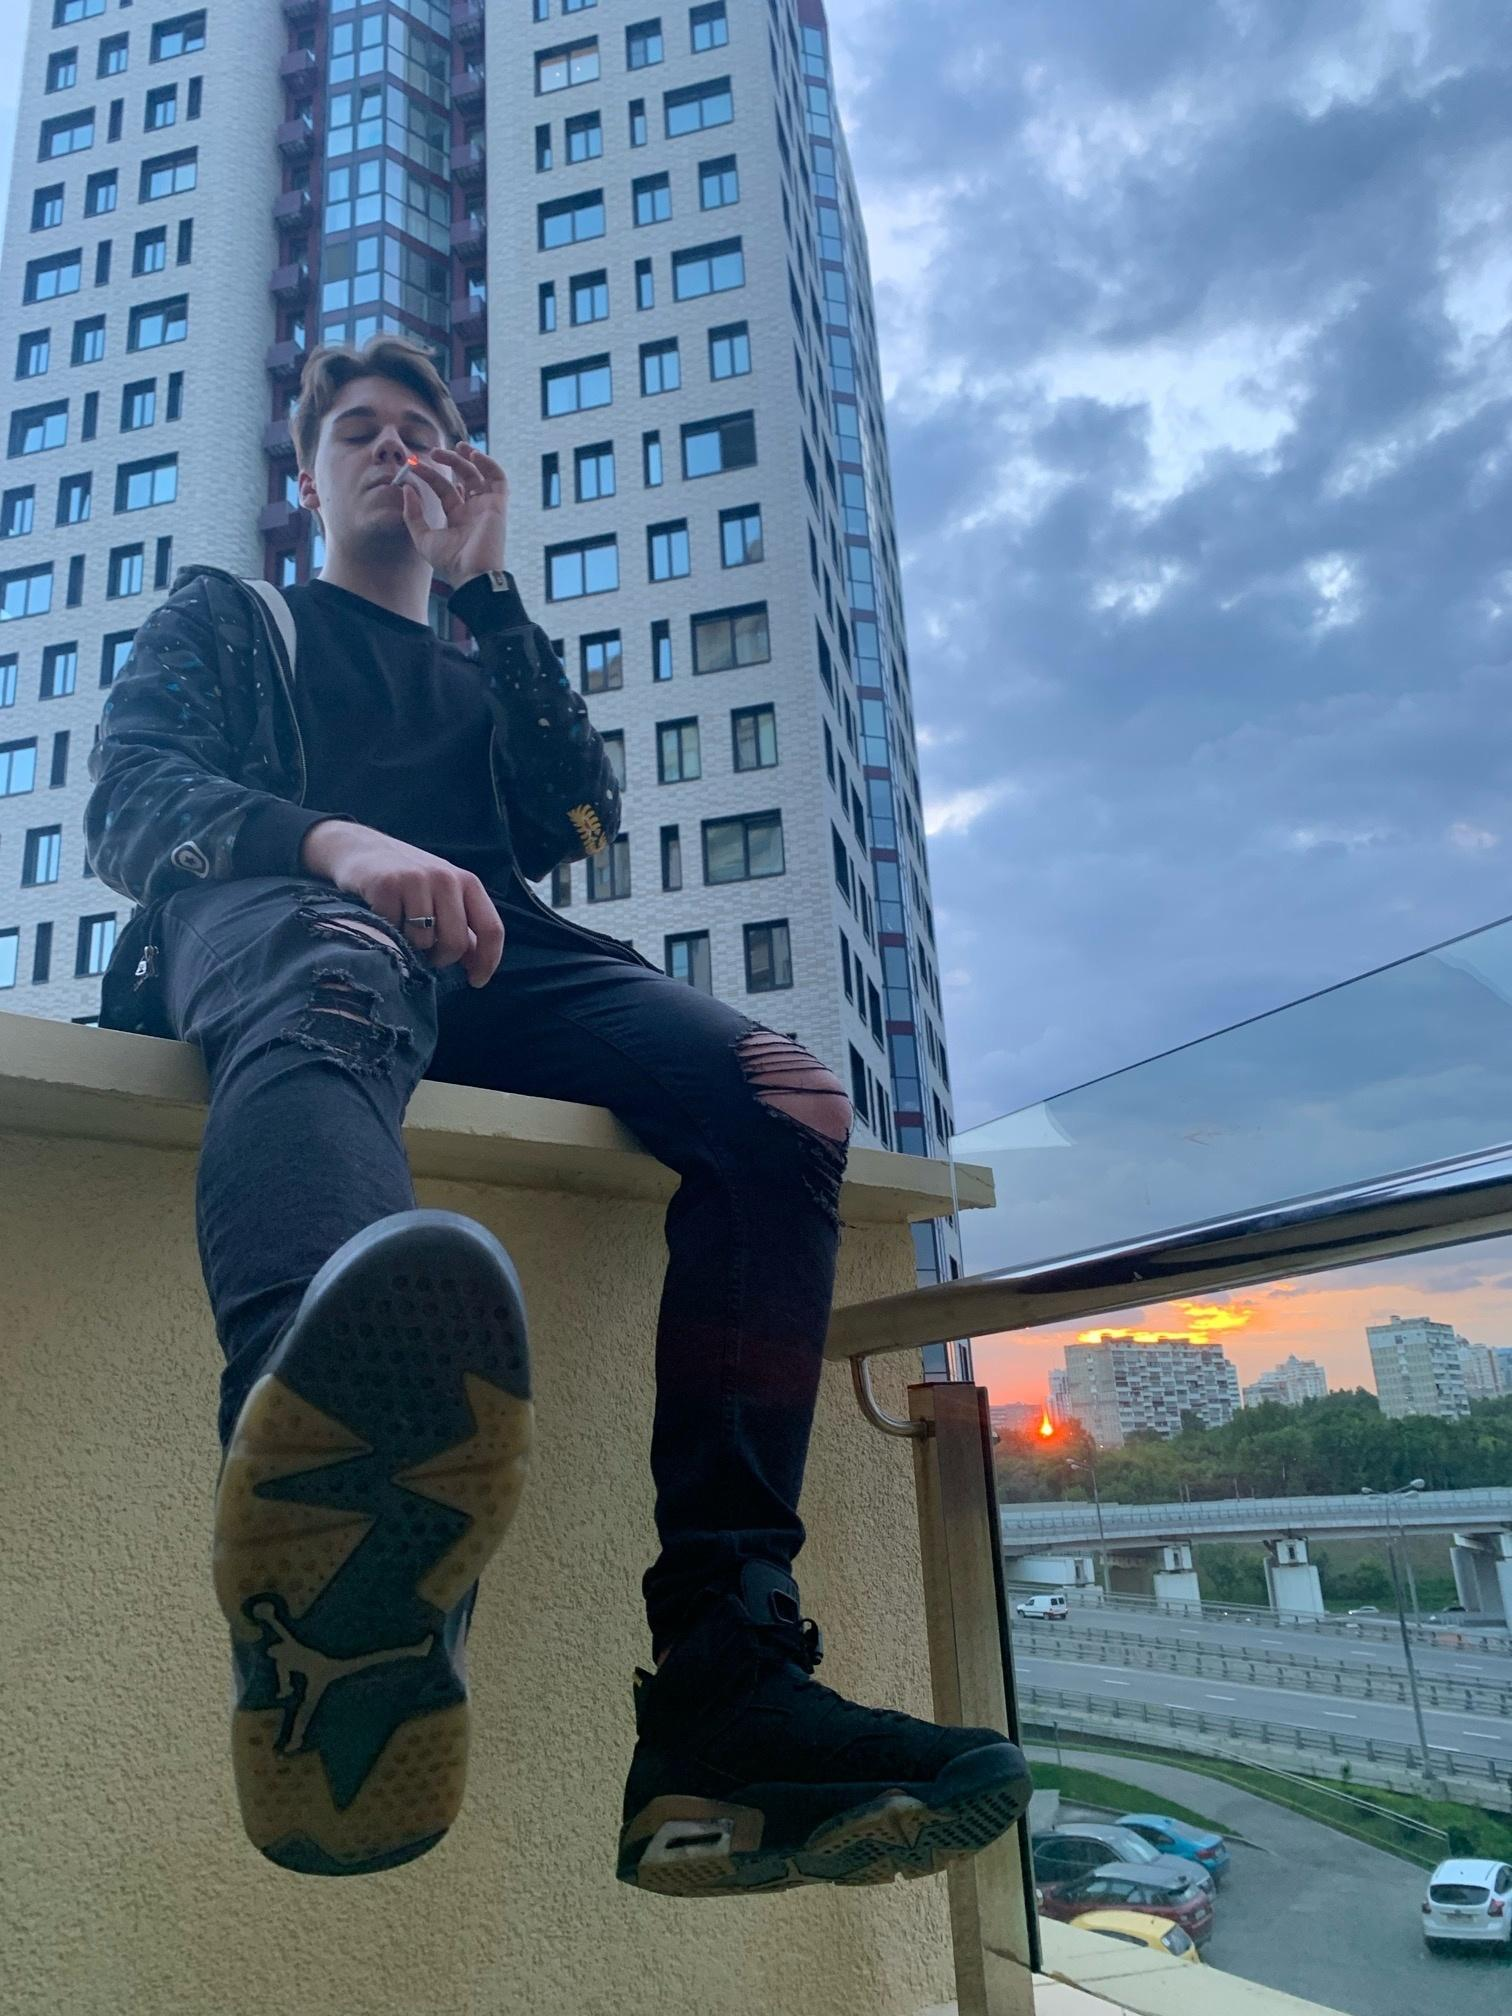cigarette: (391, 456, 418, 487)
